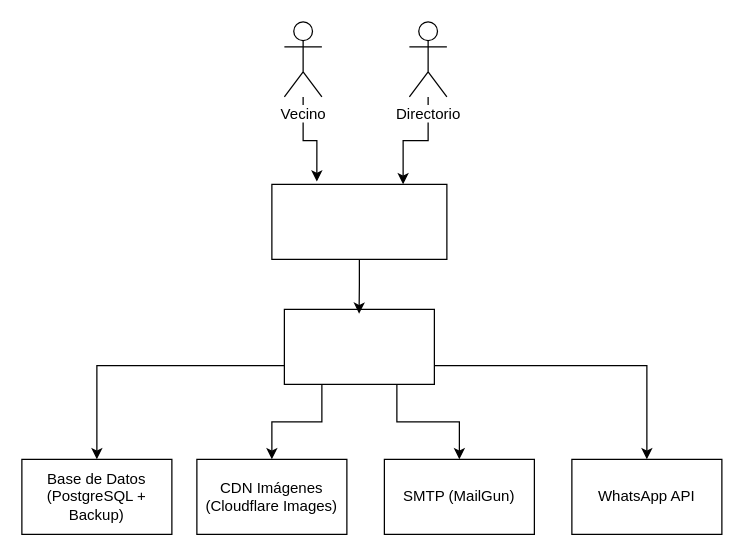
This 744x556 diagram has some shape labels left out. The box of each missing label's shape, as (x1, y1, x2, y2) in pixels:
Backend API REST (.NET 8): (283, 308, 434, 384)
Frontend Web (React JS): (271, 183, 447, 259)
